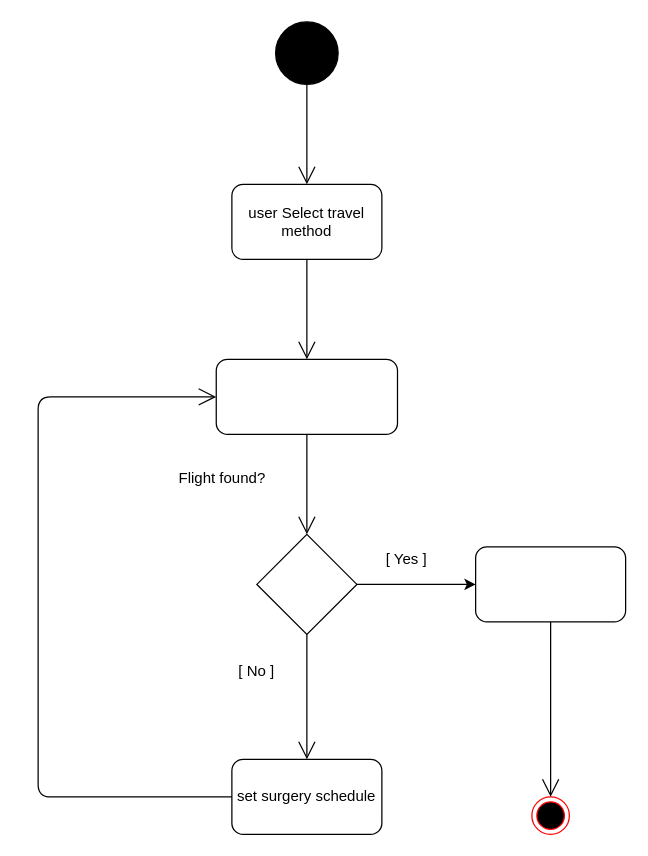
Image size: 648x856. Some labels were removed from this diagram. Each missing label, with the centre of its shape:
"buy the ticket" goes at point (550, 584).
"Find suitable flight with respect to surgery schedule that use has chosen." goes at point (306, 396).
